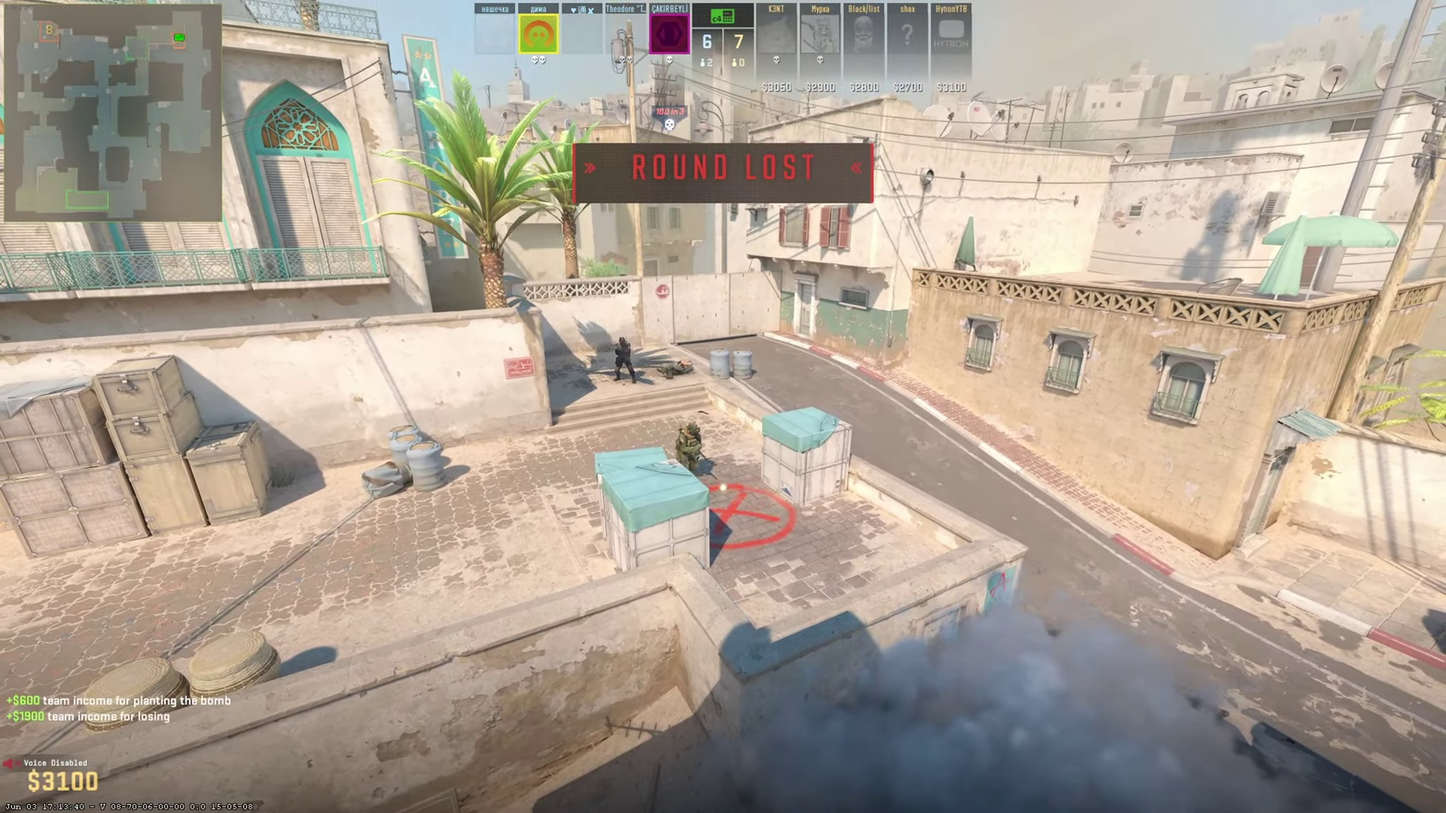CT: (678, 424, 702, 469), (616, 337, 636, 383)
